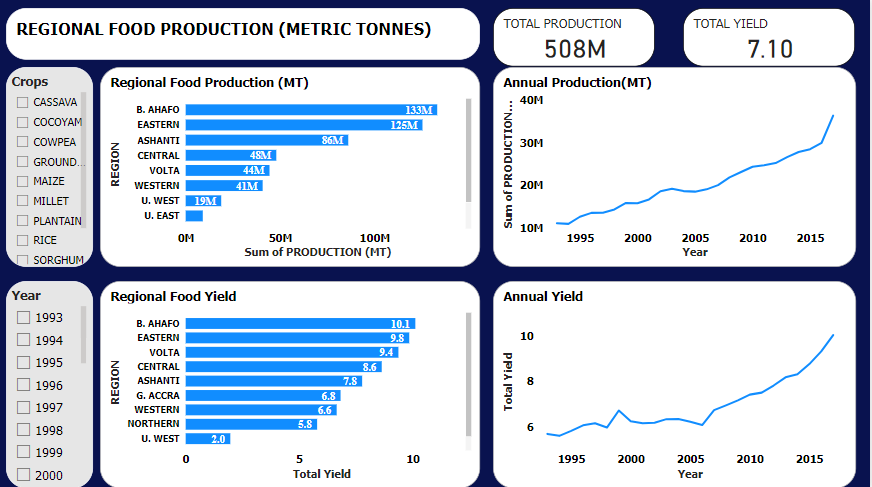

The page's visual inventory and layout, read from the dashboard file:
{"tool":"powerbi","page":{"name":"Regional","canvas":[1280,720],"ordinal":1},"visuals":[{"type":"textbox","box":[10.1,13,697,76.3],"z":0},{"type":"barChart","title":"Regional Food Production (MT)","fields":{"Category":["Crop Production.REGION"],"Y":["Sum(Crop Production.PRODUCTION (MT))"]},"box":[148.3,99.4,558.7,293.8],"z":1000},{"type":"card","title":"TOTAL PRODUCTION","fields":{"Values":["Sum(Crop Production.PRODUCTION (MT))"]},"box":[725.8,13,237.6,86.4],"z":2000},{"type":"barChart","title":"Regional Food Yield","fields":{"Category":["Crop Production.REGION"],"Y":["Crop Production.Total Yield"]},"box":[148.3,414.7,558.7,305.3],"z":3000},{"type":"lineChart","title":"Annual Production(MT) ","fields":{"Category":["Crop Production.YEAR.Variation.Date Hierarchy.Year"],"Y":["Sum(Crop Production.PRODUCTION (MT))"]},"box":[725.8,99.4,534.2,293.8],"z":4000},{"type":"lineChart","title":"Annual Yield","fields":{"Y":["Crop Production.Total Yield"],"Category":["Crop Production.YEAR.Variation.Date Hierarchy.Year"]},"box":[725.8,414.7,534.2,305.3],"z":5000},{"type":"slicer","title":"Crops","fields":{"Values":["Crop Production.CROP"]},"box":[10.1,99.4,128.2,293.8],"z":6000},{"type":"slicer","title":"Year","fields":{"Values":["Crop Production.YEAR.Variation.Date Hierarchy.Year"]},"box":[10.1,414.7,128.2,305.3],"z":7000},{"type":"card","title":"TOTAL YIELD","fields":{"Values":["Crop Production.Total Yield"]},"box":[1006.6,13,253.4,86.4],"z":8000}]}

Visuals, with their boxes in screenshot pixels (x1, y1, x2, y2), scaled from the page's 1280x720 canvas onto the 872x487 screenshot:
textbox: <bbox>7, 9, 482, 60</bbox>
"Regional Food Production (MT)" barChart: <bbox>101, 67, 482, 266</bbox>
"TOTAL PRODUCTION" card: <bbox>494, 9, 656, 67</bbox>
"Regional Food Yield" barChart: <bbox>101, 280, 482, 486</bbox>
"Annual Production(MT) " lineChart: <bbox>494, 67, 858, 266</bbox>
"Annual Yield" lineChart: <bbox>494, 280, 858, 486</bbox>
"Crops" slicer: <bbox>7, 67, 94, 266</bbox>
"Year" slicer: <bbox>7, 280, 94, 486</bbox>
"TOTAL YIELD" card: <bbox>686, 9, 858, 67</bbox>
